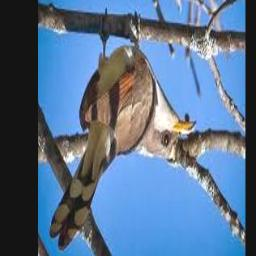Cuckoo: (50, 32, 197, 251)
